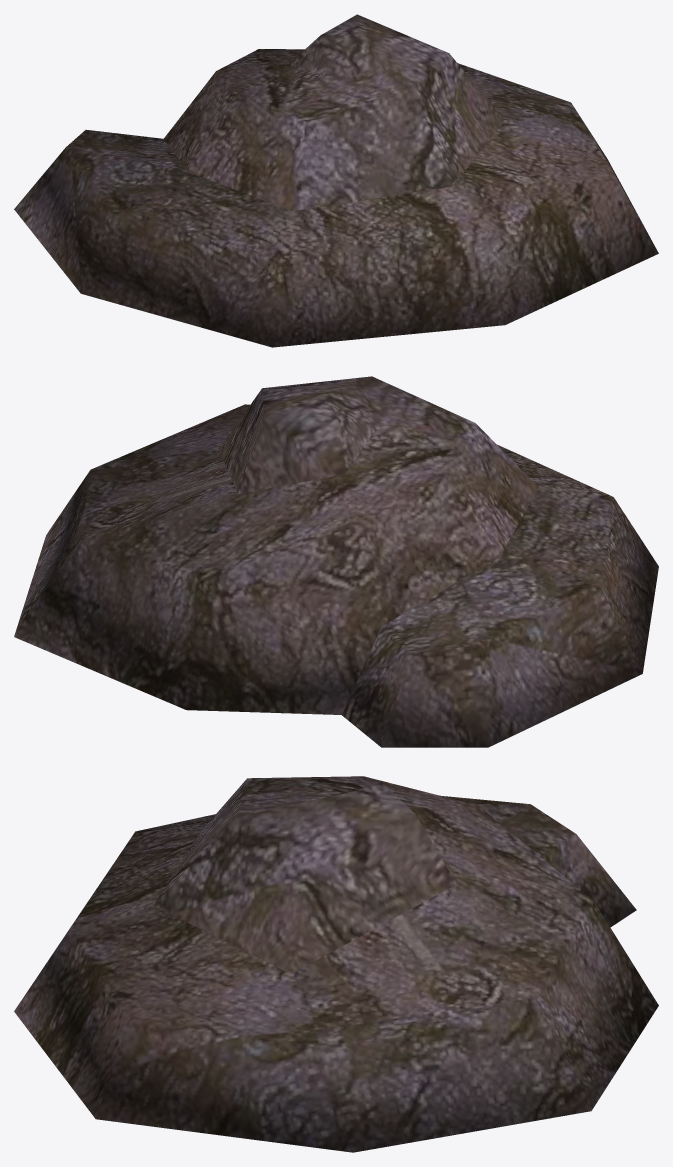
Rendered from KM_VOB_POOP_01.glb.
The picture shows the model from 3 angles, top to bottom: view 1: azimuth 30°, elevation 25°; view 2: azimuth 150°, elevation 25°; view 3: azimuth 270°, elevation 25°; orthographic projection. The views are drawn at different scales.
Visible parts, largest first — view 1: Mesh; view 2: Mesh; view 3: Mesh.
Part boxes in pixels (<box>): Mesh: <box>14,14,658,347</box>; Mesh: <box>14,376,658,747</box>; Mesh: <box>14,776,658,1152</box>.
Size of the model in its own units: 0.3395 by 0.113 by 0.3035.
1 material, 1 textured.
